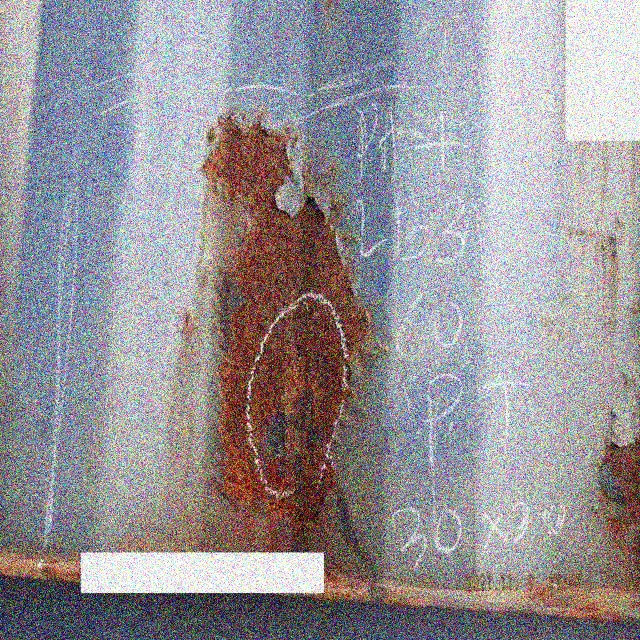Rusty: (200, 107, 373, 531), (596, 428, 640, 530)
